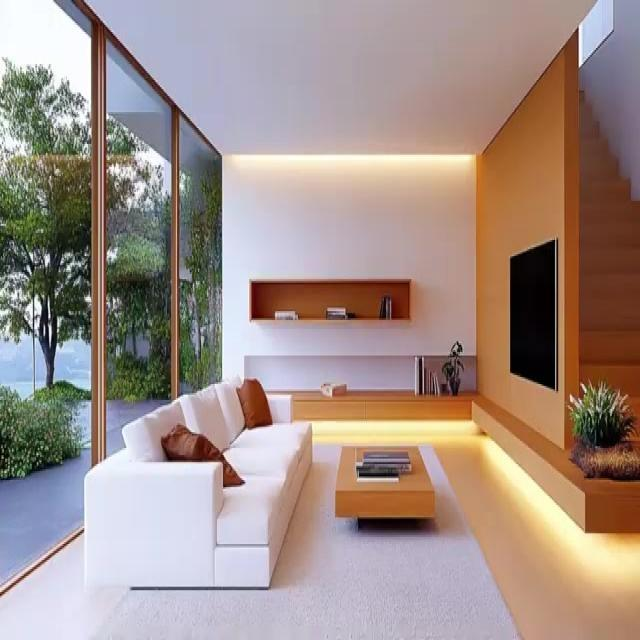obstacle: (83, 375, 312, 590), (334, 444, 435, 528), (248, 278, 411, 326)
